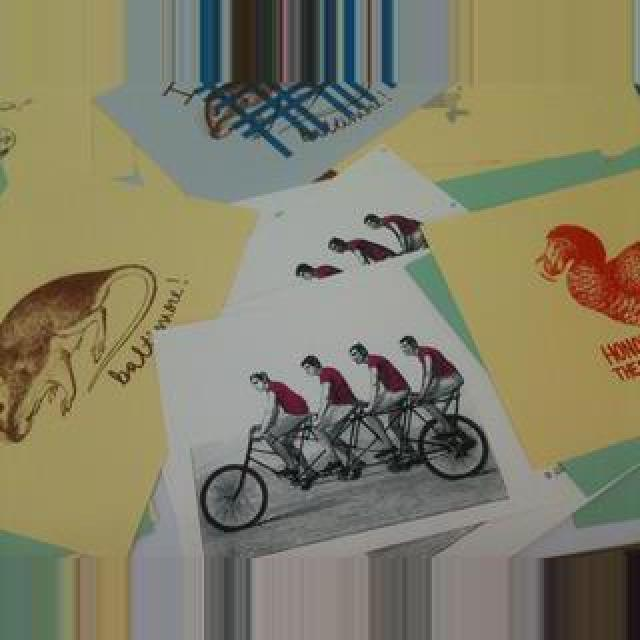MC-Bike: (344, 342, 412, 466), (248, 370, 318, 484), (300, 354, 360, 478), (390, 336, 464, 430), (328, 212, 424, 268)
Person: (198, 423, 354, 533), (313, 387, 489, 483)
